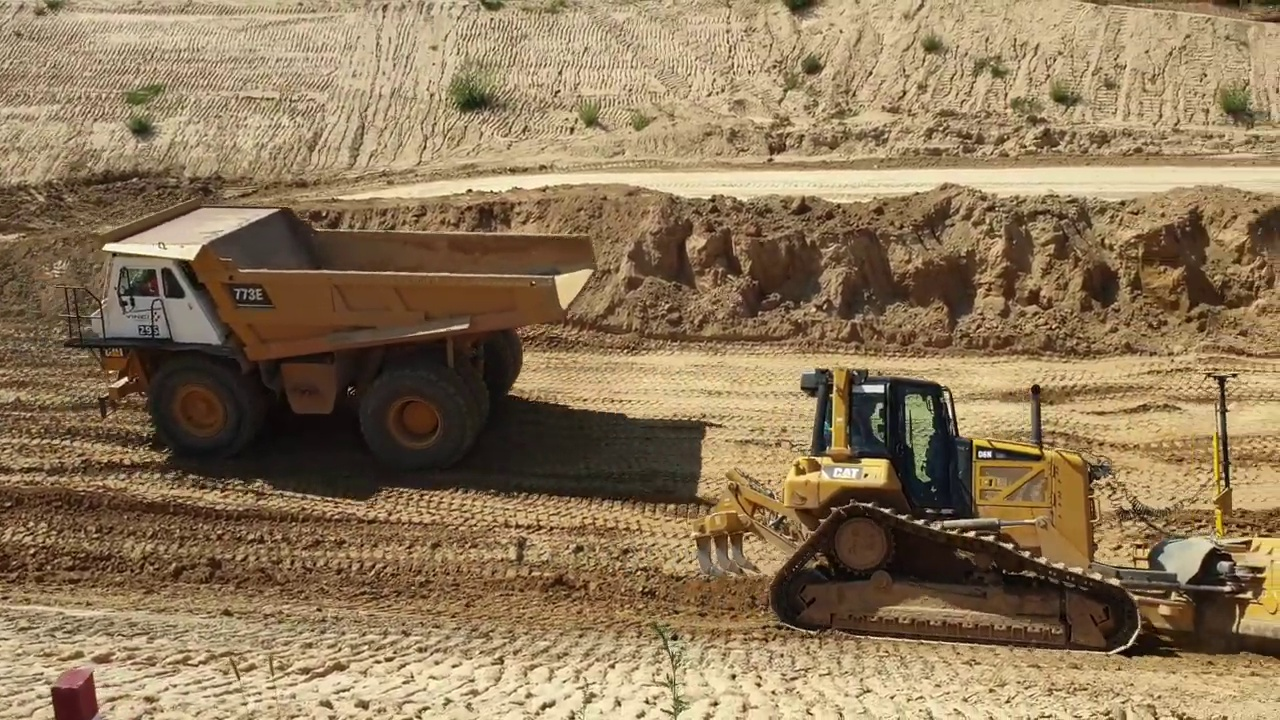bulldozer: (687, 350, 1280, 667)
truck: (53, 193, 604, 485)
